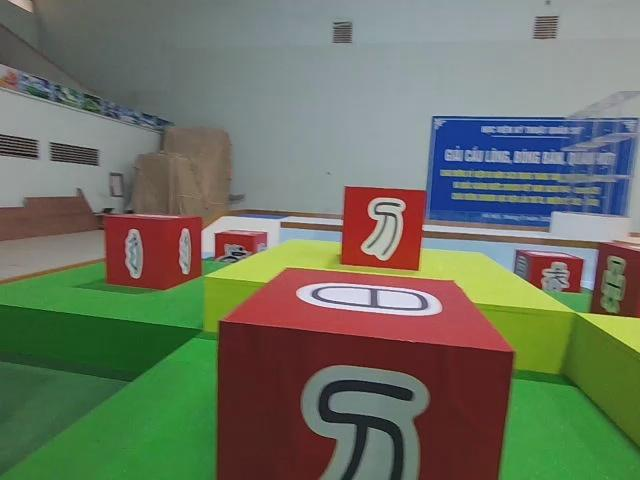R1: (214, 226, 269, 266)
R2 Fake: (214, 266, 514, 480), (340, 185, 429, 270), (510, 247, 586, 296)
R2 Real: (102, 211, 204, 292), (588, 237, 640, 322)
